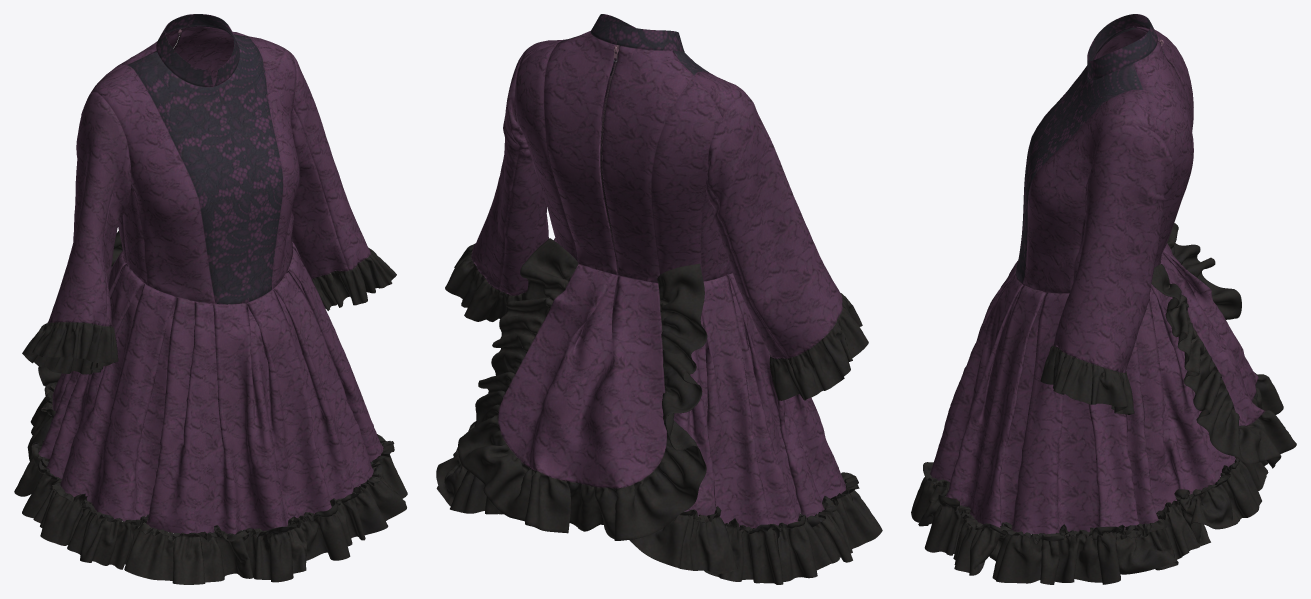
The model's file is jacket-1875.glb.
The picture shows the model from 3 angles, left to right: view 1: azimuth 30°, elevation 25°; view 2: azimuth 150°, elevation 25°; view 3: azimuth 270°, elevation 25°; orthographic projection. The views are drawn at different scales.
Parts seen in each view (by area): view 1: 06_Jacket; view 2: 06_Jacket; view 3: 06_Jacket.
Part boxes in pixels (box(x1,y1,x2,y2)): 06_Jacket: box(14, 14, 407, 584); 06_Jacket: box(436, 14, 882, 584); 06_Jacket: box(911, 14, 1296, 584).
Bounding box in the file's own units: 0.685 × 0.8827 × 0.6132.
Materials: 1 (1 with a texture image).
